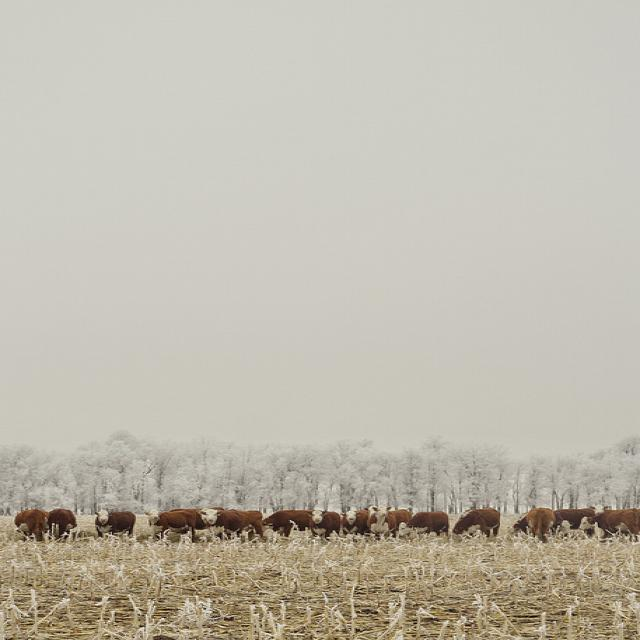cow: (146, 507, 217, 548), (574, 508, 639, 542), (199, 510, 260, 538), (259, 508, 317, 535), (396, 510, 447, 539), (93, 508, 135, 537), (13, 508, 46, 542), (367, 503, 396, 541), (302, 508, 339, 537), (524, 506, 553, 542), (45, 507, 74, 542), (133, 508, 161, 539), (337, 508, 367, 533)
